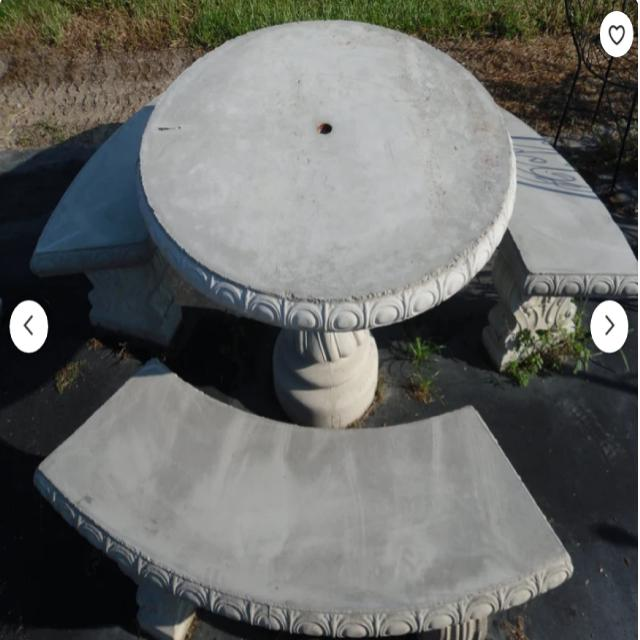Concrete: (21, 20, 640, 640)
